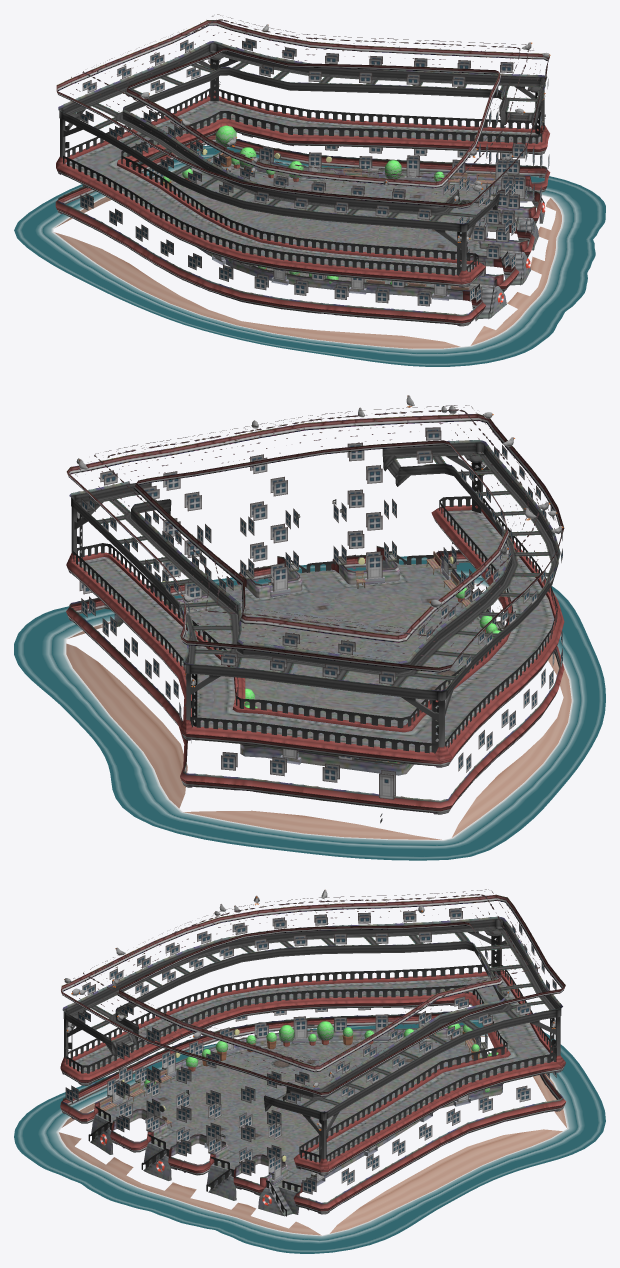
File: Town.obj
The picture shows the model from 3 angles, top to bottom: view 1: azimuth 30°, elevation 25°; view 2: azimuth 150°, elevation 25°; view 3: azimuth 270°, elevation 25°; orthographic projection. The views are drawn at different scales.
Visible parts, largest first — view 1: mesh01; view 2: mesh01; view 3: mesh01.
Part boxes in pixels (bbox=[...]): mesh01: bbox=[14, 14, 605, 366]; mesh01: bbox=[14, 395, 605, 860]; mesh01: bbox=[14, 889, 605, 1253].
Bounding box in the file's own units: 12.97 × 4.39 × 13.81.
Materials: 1 (1 with a texture image).
